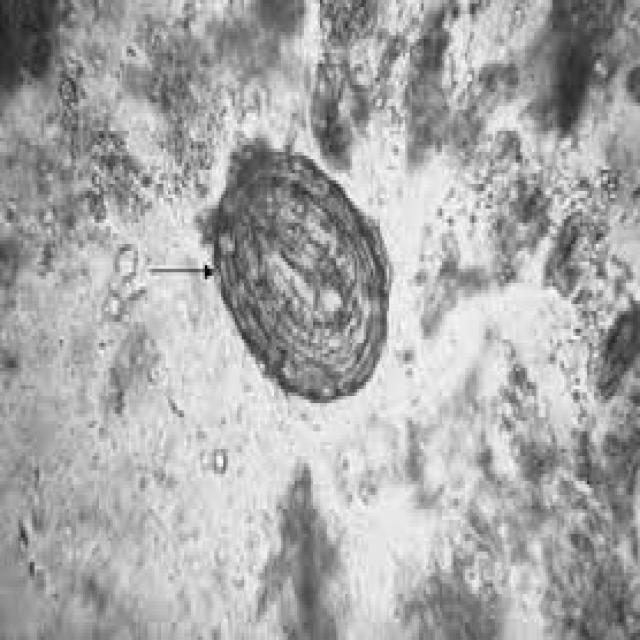Ascaris Lumbricoides: (210, 145, 402, 410)
